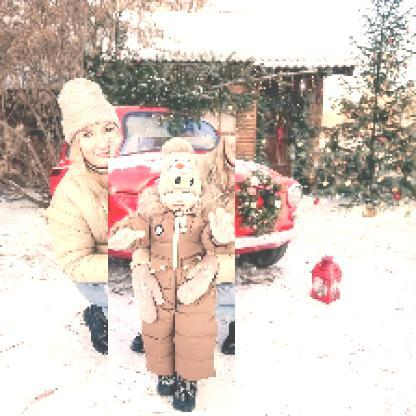child: (109, 138, 237, 414)
